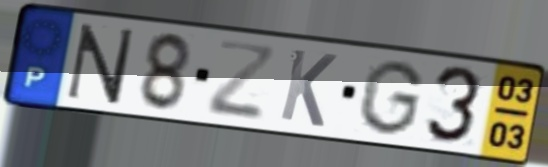3: (421, 64, 488, 147)
8: (137, 30, 196, 114)
G: (354, 57, 428, 138)
K: (276, 45, 340, 130)
N: (62, 21, 139, 107)
Z: (203, 37, 279, 124)
